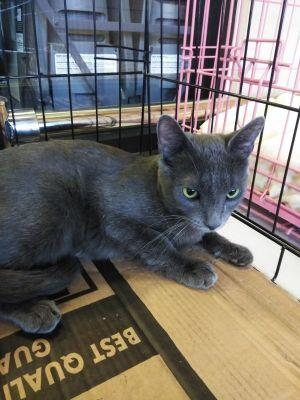rblue: (143, 93, 268, 253)
